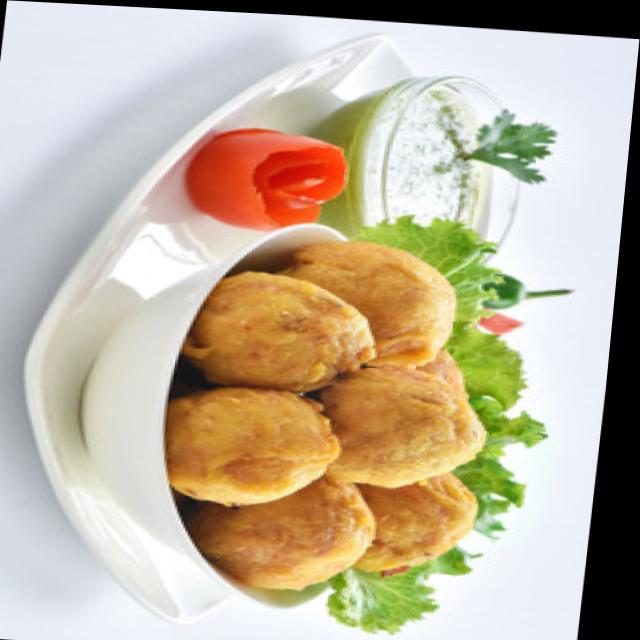BONDA: (168, 242, 485, 591)
GREEN CHUTNEY: (382, 79, 516, 244)
